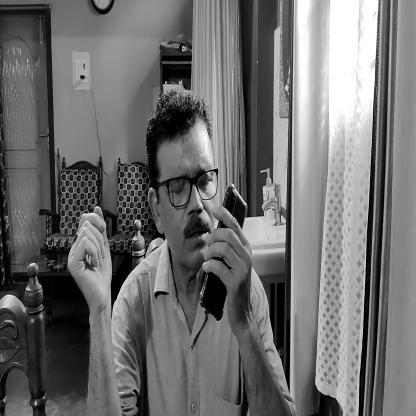Distracted: (154, 97, 219, 272)
